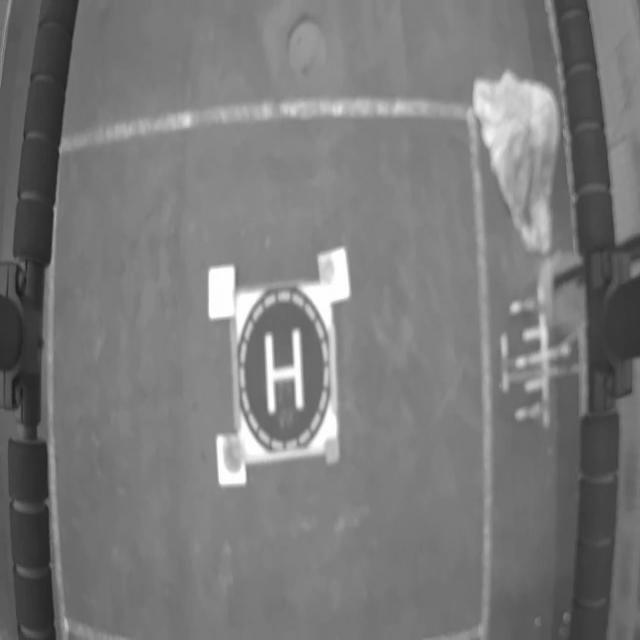Helipad: (264, 326, 304, 417)
